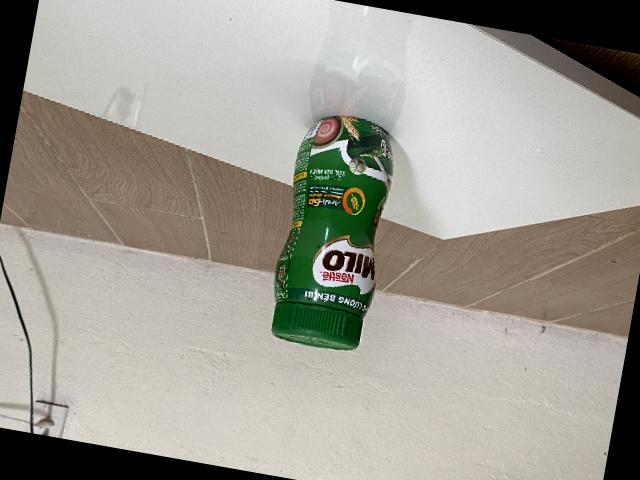milo: (269, 113, 394, 348)
